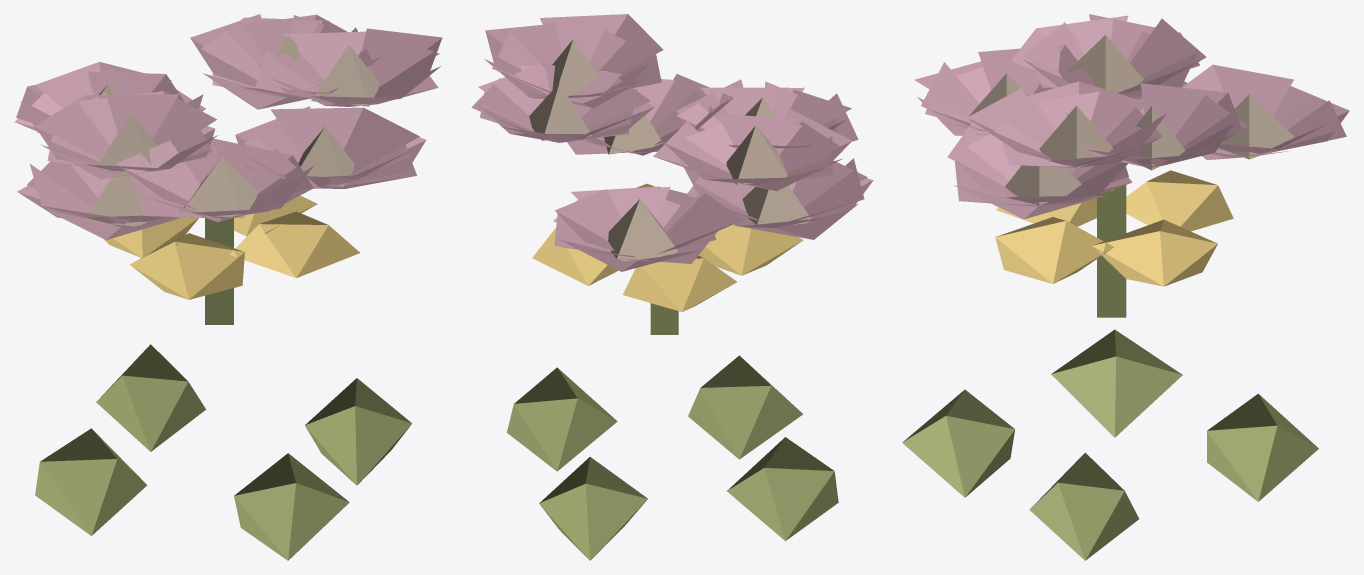
Rendered from shui.lian@flowering__autumn.glb.
The picture shows the model from 3 angles, left to right: view 1: azimuth 30°, elevation 25°; view 2: azimuth 150°, elevation 25°; view 3: azimuth 270°, elevation 25°; orthographic projection. The views are drawn at different scales.
Parts seen in each view (by area): view 1: shui.lian@flowering__autumn; view 2: shui.lian@flowering__autumn; view 3: shui.lian@flowering__autumn.
Boxes of the visible parts, left/top/right/bottom form: shui.lian@flowering__autumn: left=15, top=14, right=442, bottom=560; shui.lian@flowering__autumn: left=471, top=14, right=873, bottom=560; shui.lian@flowering__autumn: left=902, top=14, right=1349, bottom=560.
Size of the model in its own units: 1.21 by 1.3 by 1.17.
